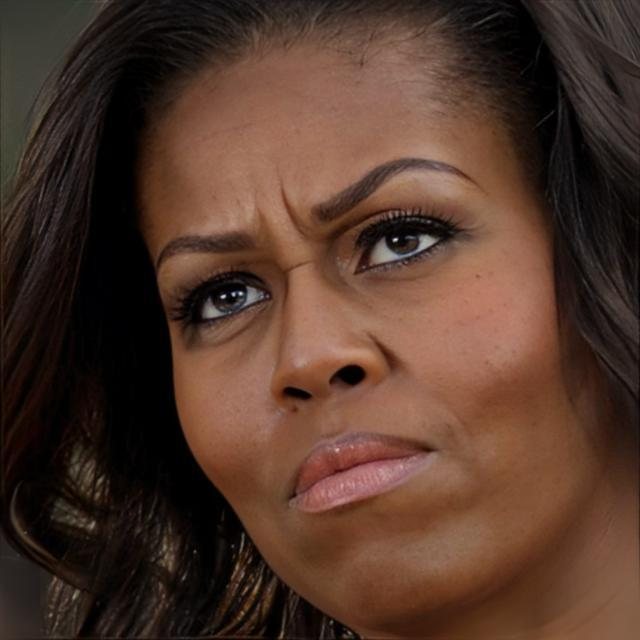anger: (157, 28, 577, 592)
